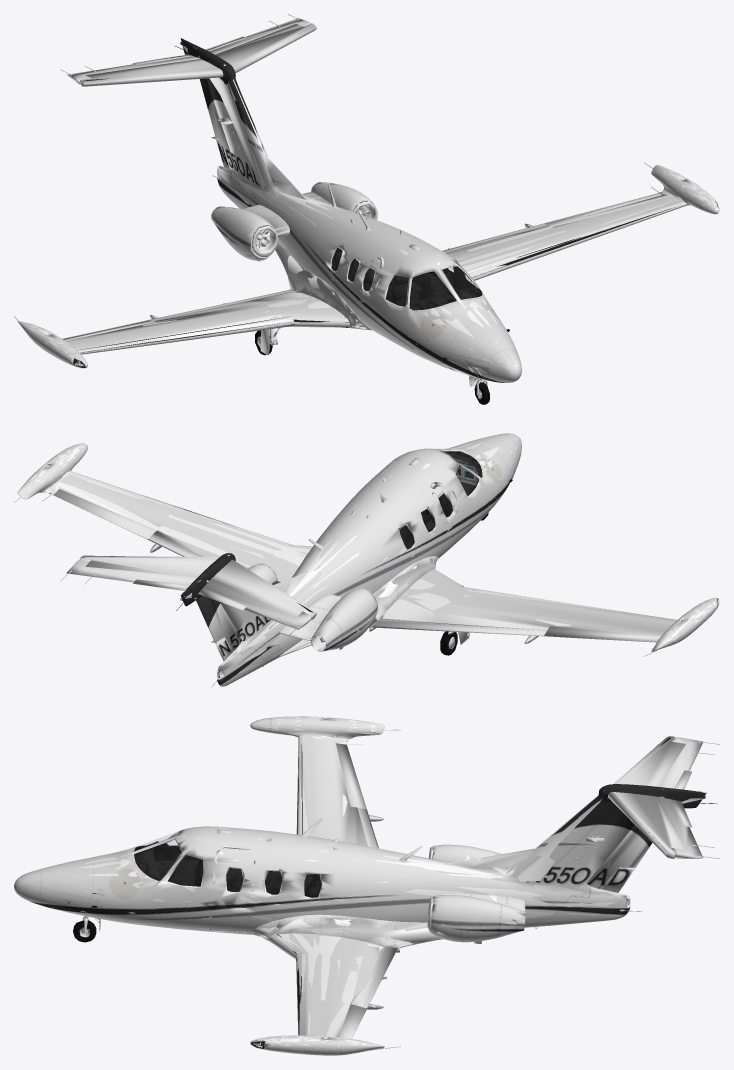
File: vlj.glb
3 renders of one model, top to bottom at view 1: azimuth 30°, elevation 25°; view 2: azimuth 150°, elevation 25°; view 3: azimuth 270°, elevation 25°, orthographic. The views are drawn at different scales.
Parts seen in each view (by area): view 1: Object_8, Object_47, Object_4, Object_10; view 2: Object_8, Object_47, Object_4, Object_10; view 3: Object_8, Object_47, Object_4, Object_10.
Boxes of the visible parts, x1,y1,x2,y2 form: Object_8: [17, 18, 718, 387]; Object_47: [18, 25, 718, 382]; Object_4: [47, 46, 718, 404]; Object_10: [14, 14, 658, 399]; Object_8: [17, 433, 718, 686]; Object_47: [17, 435, 718, 678]; Object_4: [46, 451, 718, 679]; Object_10: [14, 458, 657, 687]; Object_8: [14, 716, 706, 1055]; Object_47: [15, 716, 705, 1055]; Object_4: [73, 717, 716, 1048]; Object_10: [79, 729, 719, 1049].
Bounding box in the file's own units: 11.6 × 2.93 × 10.56.
Materials: 7 (7 with a texture image).
